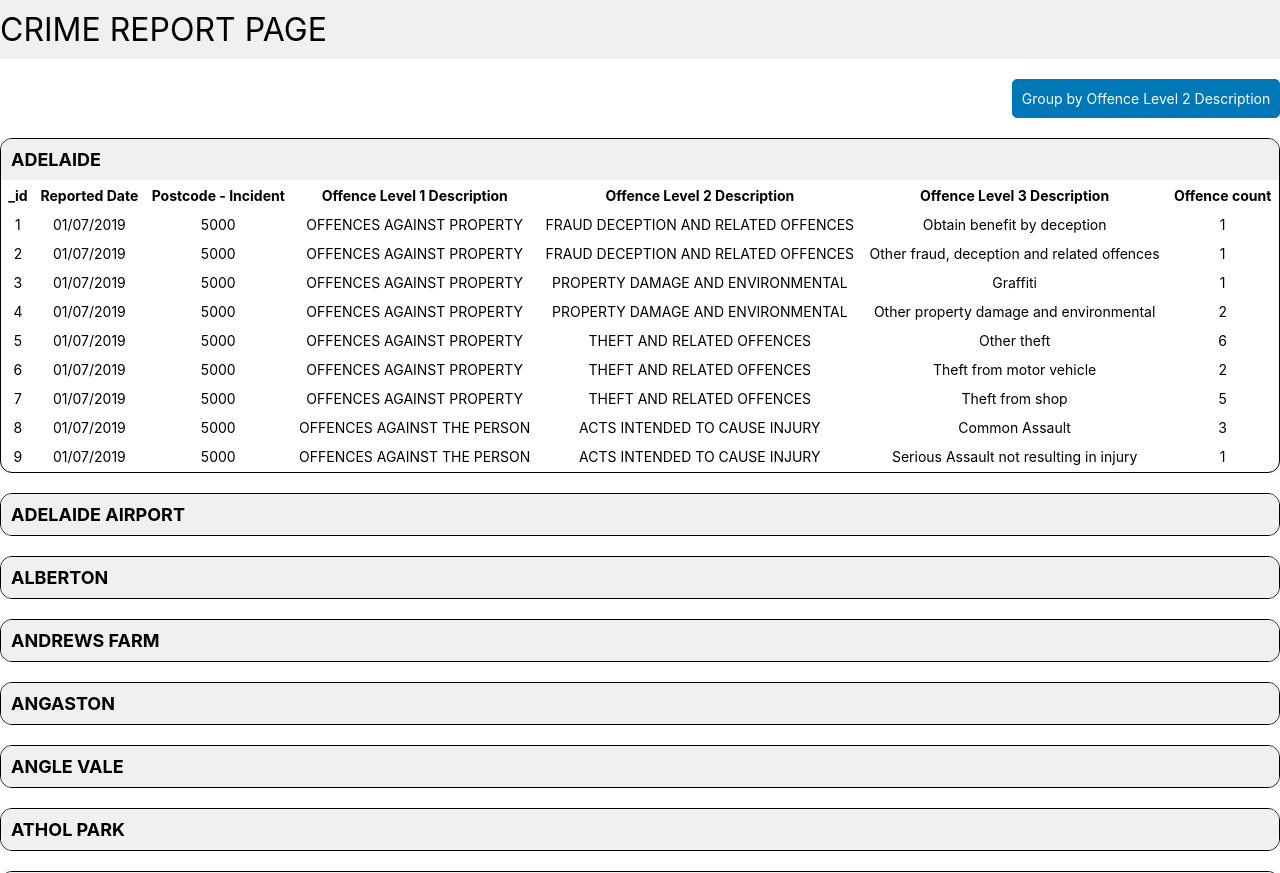
Crime Report › should render switch mode button text correctly
Click the button "Group by Offence Level 2 Description" at (1146, 98), box [1012,79,1279,118]
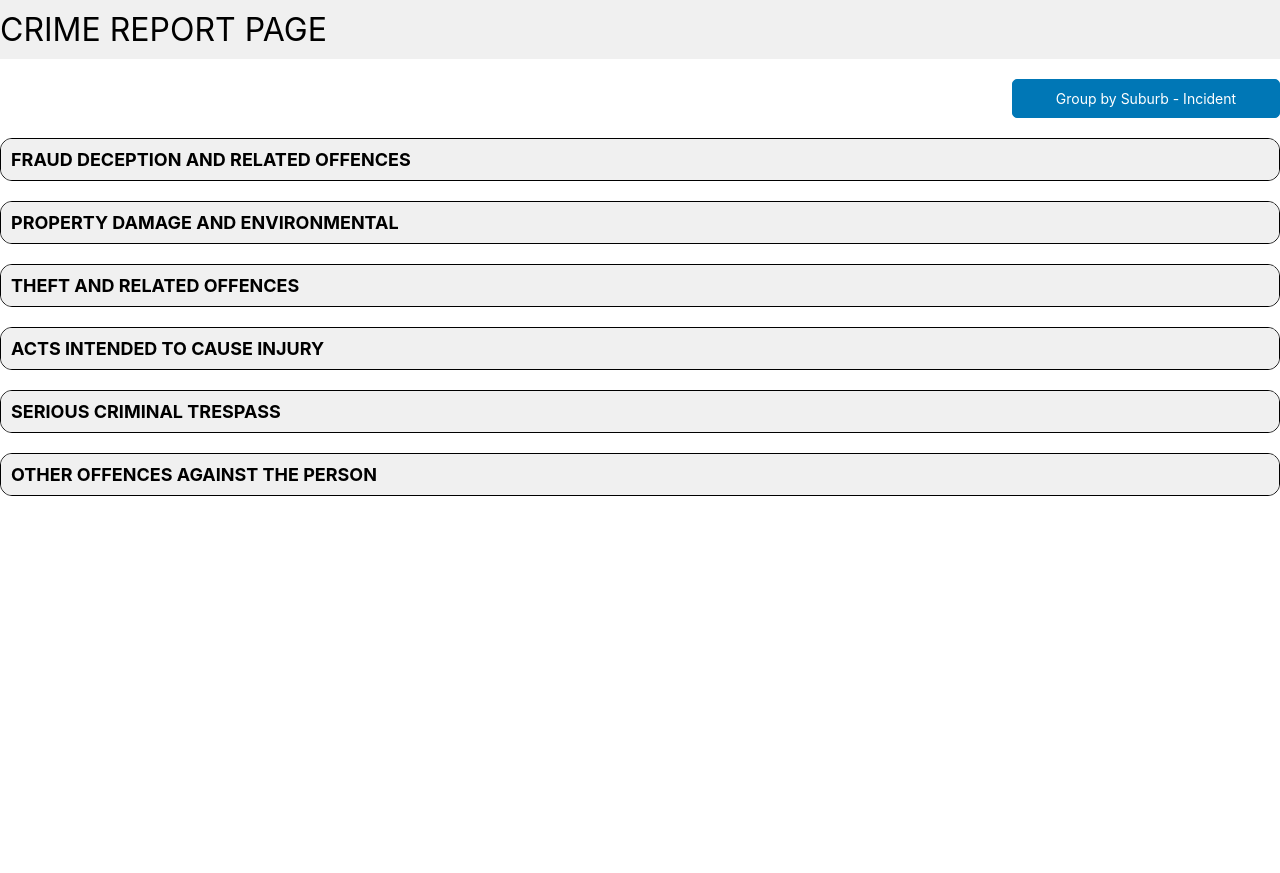
Expected: the button "Group by Offence Level 2 Description" reads "Group by Suburb - Incident", [1012,79,1279,118]
